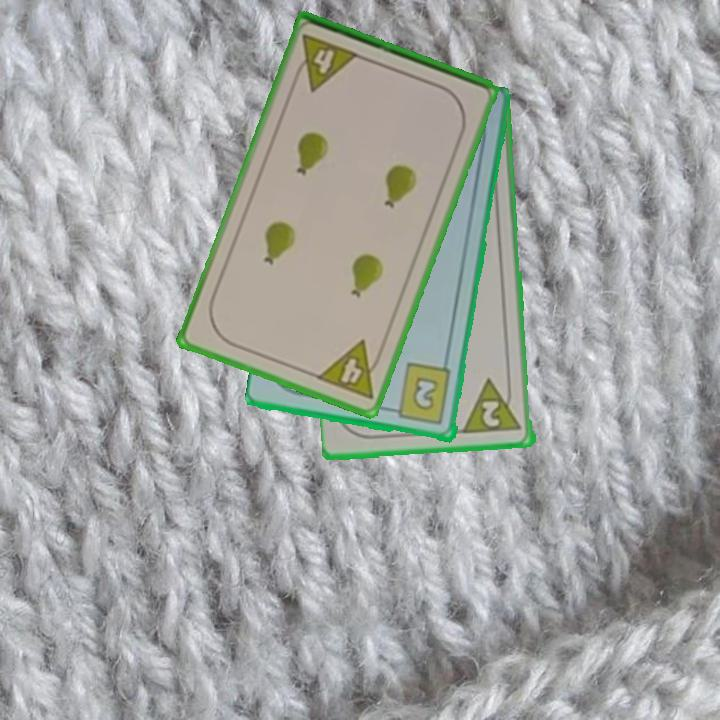2b: (386, 361, 454, 428)
2p: (461, 375, 525, 437)
4p: (313, 336, 387, 403), (289, 30, 362, 94)
